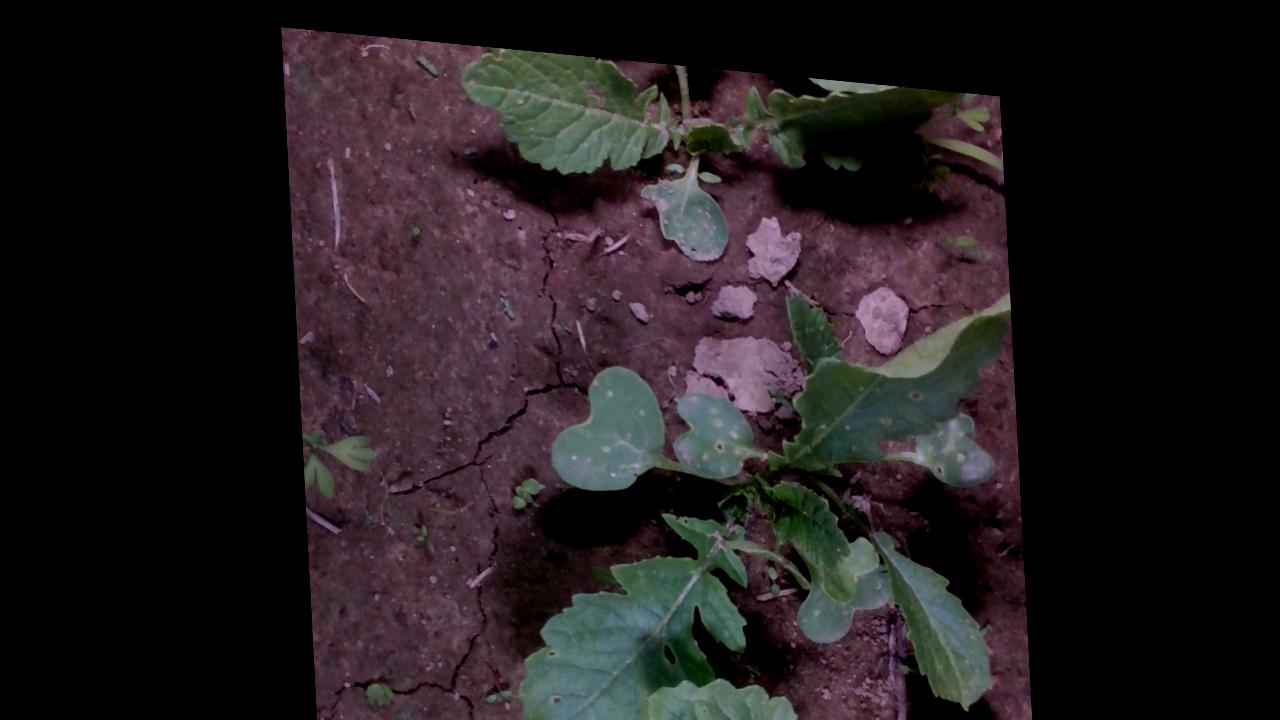weed: (503, 461, 539, 502)
